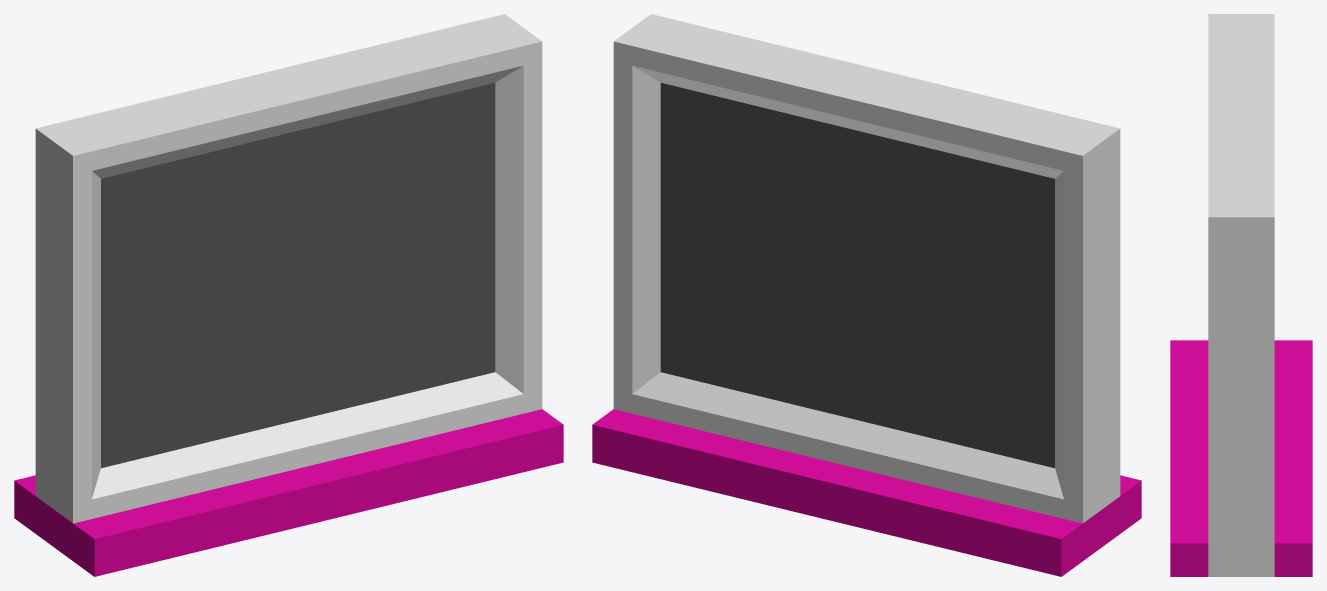
Rendered from bigScreen.fbx.
3 views of the same model, side by side, from view 1: azimuth 30°, elevation 25°; view 2: azimuth 150°, elevation 25°; view 3: azimuth 270°, elevation 25° (orthographic). The views are drawn at different scales.
Visible parts, largest first — view 1: bigScreen; view 2: bigScreen; view 3: bigScreen.
Boxes of the visible parts, box(x1,y1,x2,y2) form: bigScreen: box(14, 14, 563, 576); bigScreen: box(592, 14, 1141, 576); bigScreen: box(1170, 14, 1312, 576).
Bounding box in the file's own units: 3.77 × 3.11 × 1.12.
